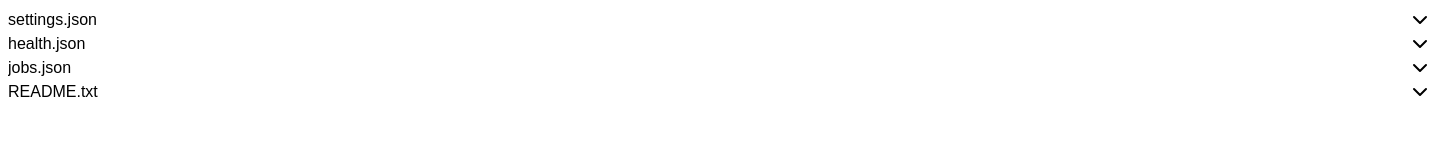
Scenario: Accordion › opens an item on click and closes it on a second click
What coordinates should you click on to do the following:
click the button "settings.json"
I would click on:
 (52, 20)
Its box is [8,8,1432,32].
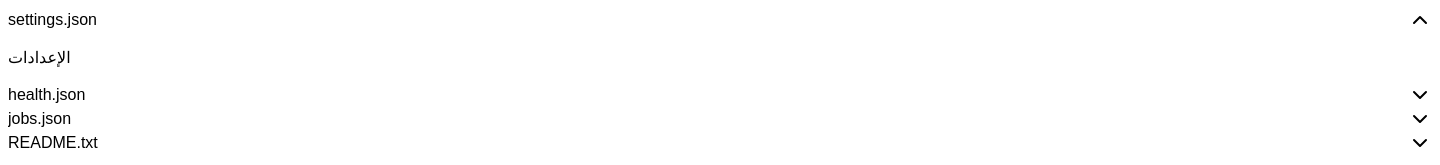
Expected: the button "settings.json" is expanded
What coordinates should you click on to do the following:
click the button "settings.json"
I would click on:
 (52, 20)
Its box is [8,8,1432,32].
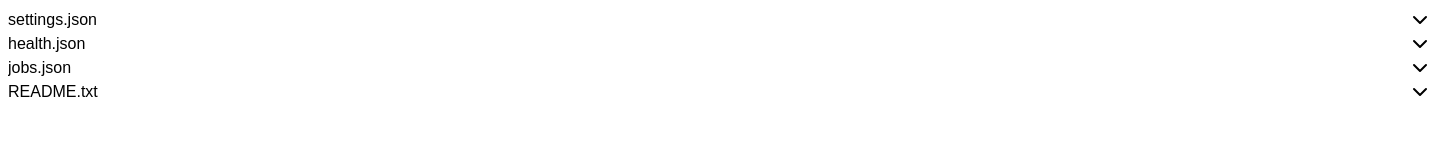
Expected: the button "settings.json" is collapsed, [8,8,1432,32]
